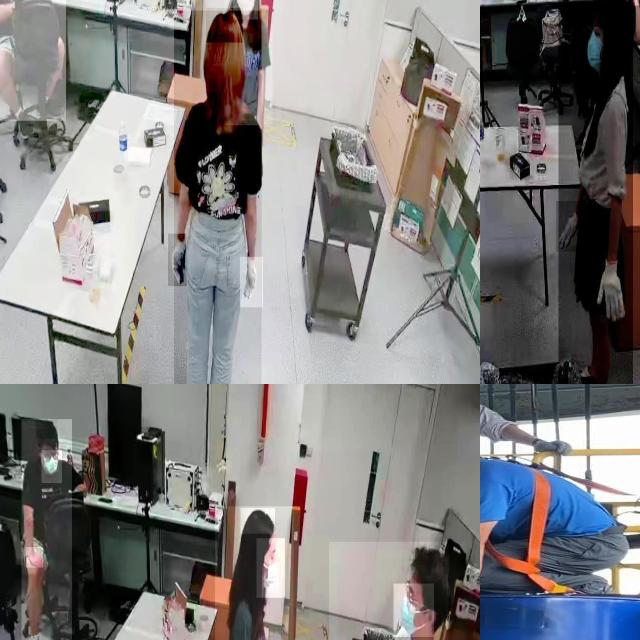Harness: (480, 454, 576, 600)
face_mask: (394, 583, 434, 637), (257, 538, 285, 598), (583, 26, 608, 76), (42, 450, 62, 484), (233, 0, 258, 19)
hand_glove: (595, 254, 623, 324), (556, 201, 581, 253), (240, 257, 264, 308), (168, 234, 187, 287)
hand_noglove: (26, 547, 44, 569), (631, 0, 640, 6)
head_nohelmet: (206, 8, 244, 43), (412, 546, 452, 576), (240, 508, 276, 535), (592, 0, 633, 15), (36, 419, 58, 440)
person: (174, 10, 262, 384), (558, 0, 633, 384), (329, 542, 449, 640), (21, 419, 72, 640), (215, 506, 294, 640), (0, 0, 66, 122), (224, 0, 273, 125)
shoes: (14, 102, 36, 146), (26, 630, 50, 640)
